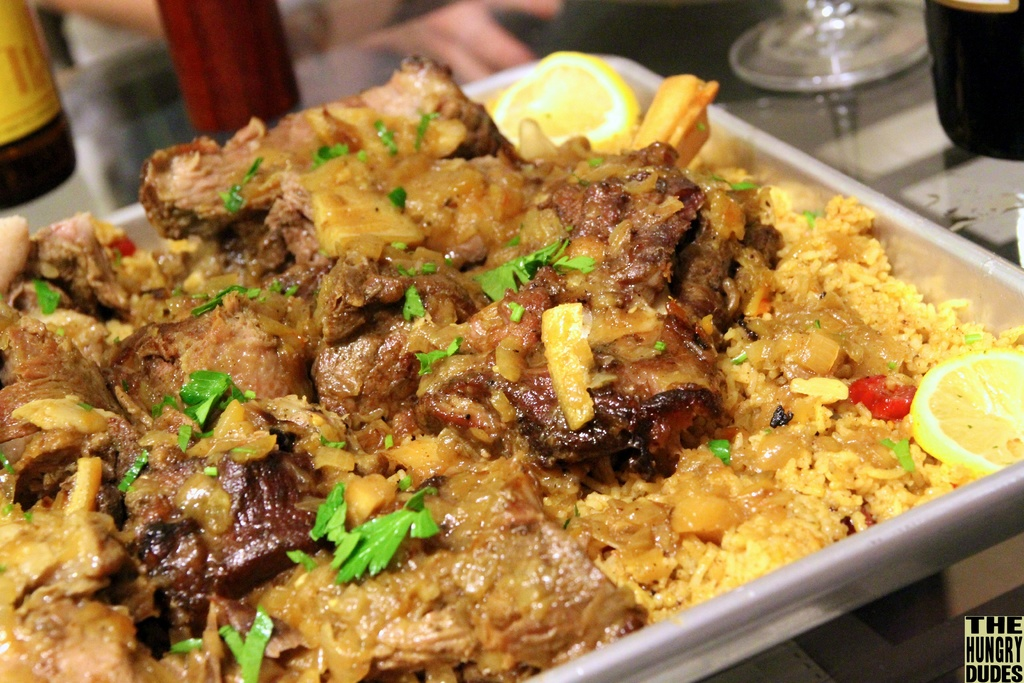person: (13, 0, 181, 71)
